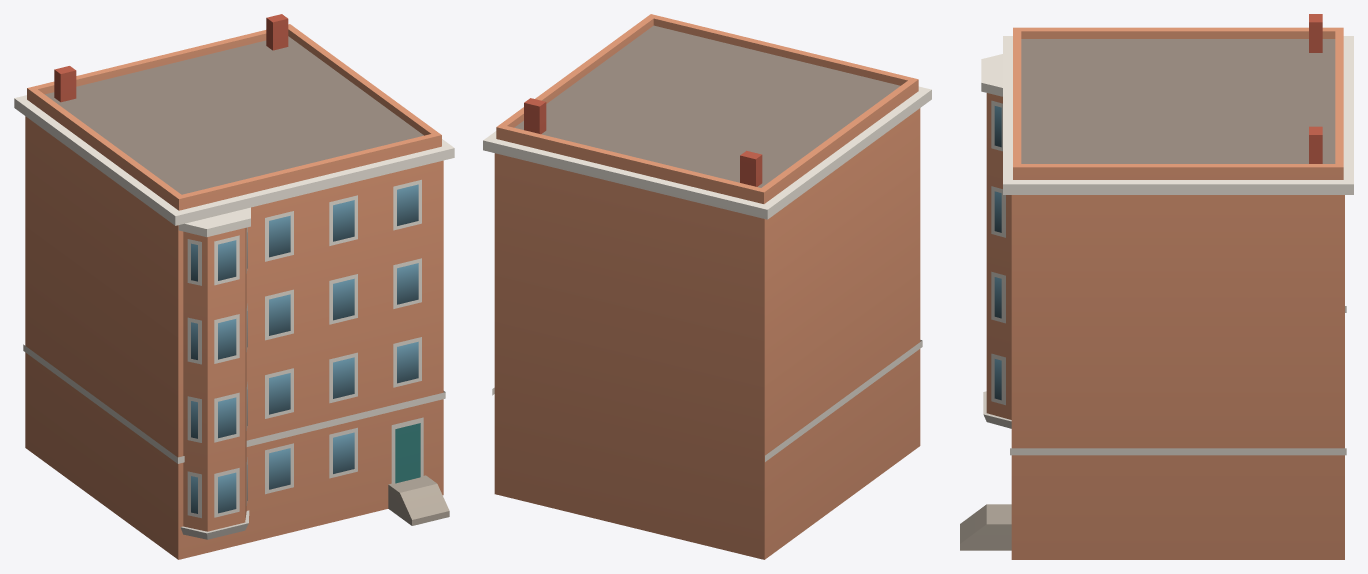
File: tremont_n3_far.glb
The picture shows the model from 3 angles, left to right: view 1: azimuth 30°, elevation 25°; view 2: azimuth 150°, elevation 25°; view 3: azimuth 270°, elevation 25°; orthographic projection. The views are drawn at different scales.
Parts seen in each view (by area): view 1: tremont_n3_far; view 2: tremont_n3_far; view 3: tremont_n3_far.
Part boxes in pixels (x1=…): tremont_n3_far: x1=14, y1=14, x2=454, y2=559; tremont_n3_far: x1=483, y1=14, x2=931, y2=559; tremont_n3_far: x1=960, y1=14, x2=1353, y2=559.
Bounding box in the file's own units: 12.64 × 16.49 × 14.18.
Materials: 1 (1 with a texture image).
